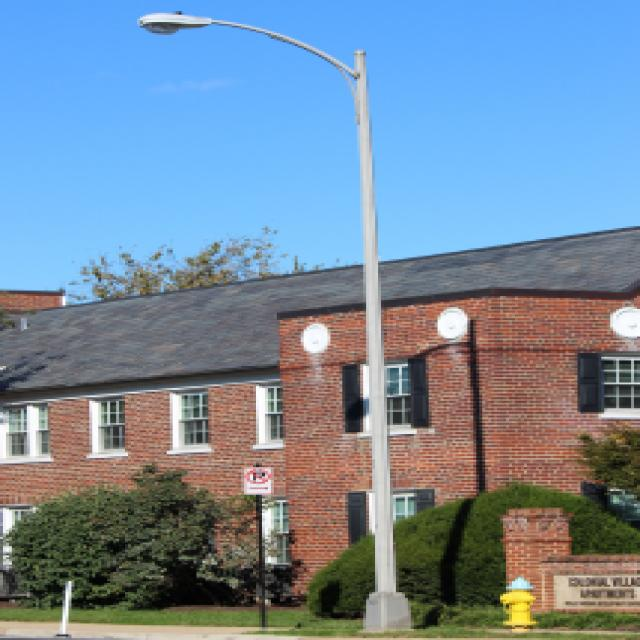Electric pole: (140, 13, 411, 634)
